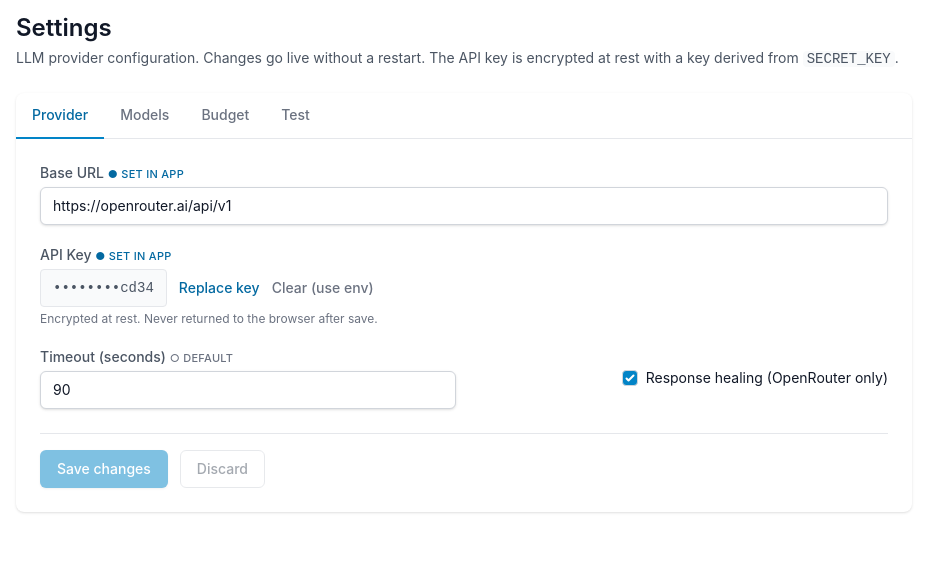
Test: SettingsPage › fetches and lists provider models when Refresh is clicked
The width and height of the screenshot is (929, 583).
Expected: the heading "Settings" is shown, [16,13,112,42]
Click the button "Models" at [145, 116], box [104,93,185,139]
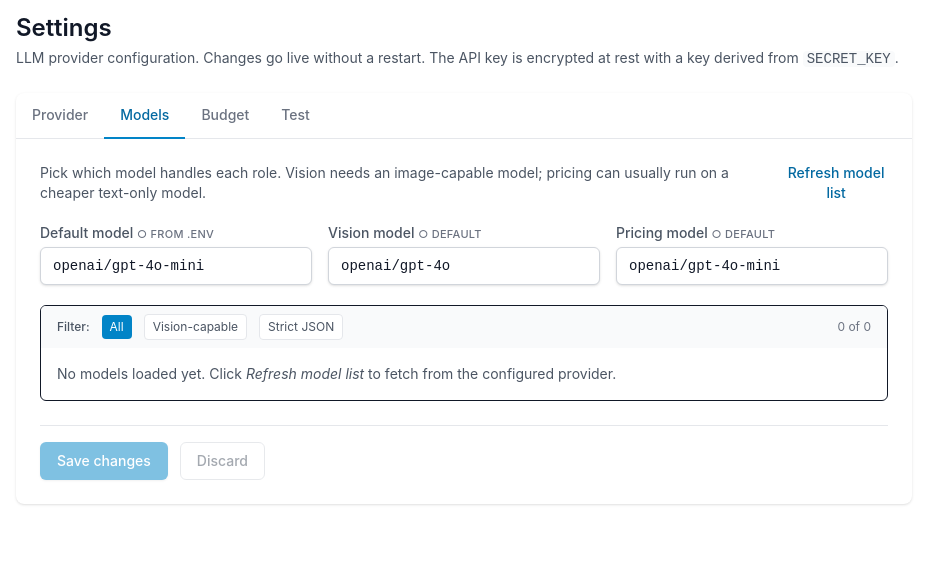
Now the text "No models loaded yet" is shown, box [57,365,246,382]
Click the button "Refresh model list" at [836, 183], box [784,163,888,203]
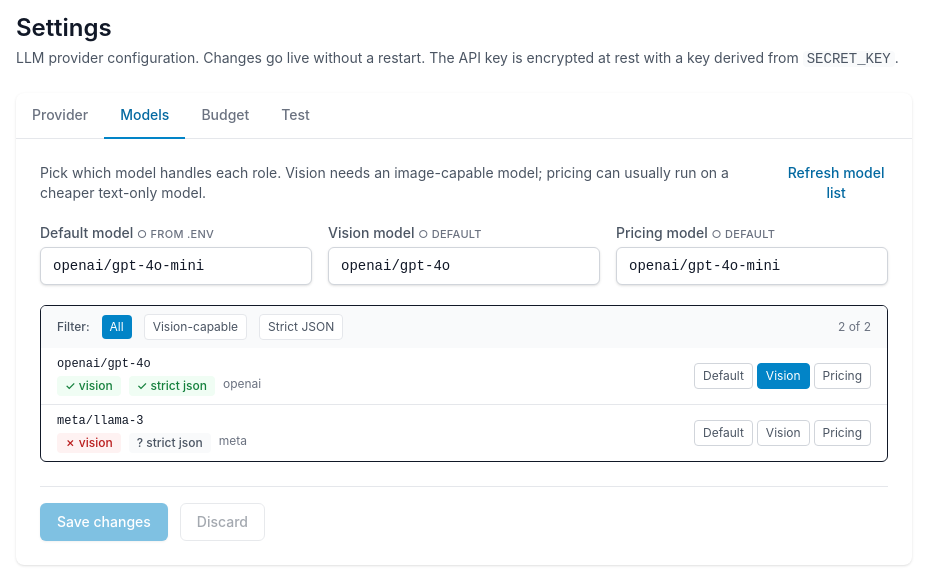
Now the text "openai/gpt-4o" is shown, box [57,357,151,371]
Now the text "meta/llama-3" is shown, box [57,414,143,428]
